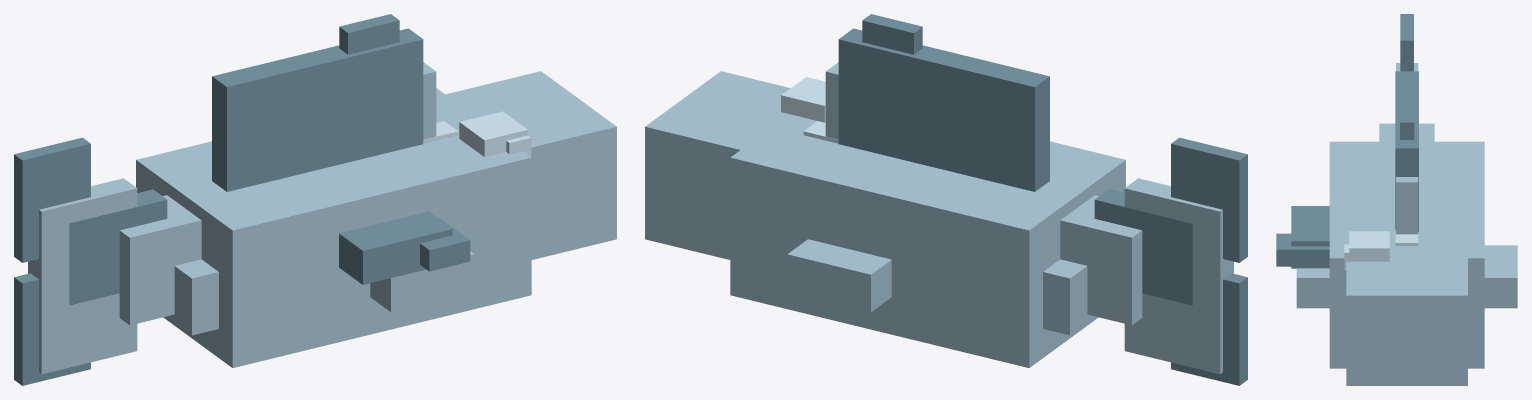
The model's file is fish_drift_icefish.glb.
3 renders of one model, left to right at view 1: azimuth 30°, elevation 25°; view 2: azimuth 150°, elevation 25°; view 3: azimuth 270°, elevation 25°, orthographic. The views are drawn at different scales.
Visible parts, largest first — view 1: FishArt_body, FishArt_dorsal, FishArt_tail, FishArt_pectoral, FishArt_eye; view 2: FishArt_body, FishArt_dorsal, FishArt_tail, FishArt_eye; view 3: FishArt_body, FishArt_pectoral, FishArt_dorsal, FishArt_eye, FishArt_tail, FishArt_specialty.
Boxes of the visible parts, bbox=[...] form: FishArt_body: bbox=[28, 62, 616, 374]; FishArt_dorsal: bbox=[212, 14, 423, 191]; FishArt_tail: bbox=[14, 137, 167, 385]; FishArt_pectoral: bbox=[339, 211, 470, 284]; FishArt_eye: bbox=[459, 111, 531, 156]; FishArt_body: bbox=[645, 62, 1233, 374]; FishArt_dorsal: bbox=[838, 14, 1049, 191]; FishArt_tail: bbox=[1094, 137, 1247, 385]; FishArt_eye: bbox=[781, 77, 825, 122]; FishArt_body: bbox=[1296, 63, 1517, 385]; FishArt_pectoral: bbox=[1276, 206, 1329, 268]; FishArt_dorsal: bbox=[1395, 71, 1418, 231]; FishArt_eye: bbox=[1344, 231, 1389, 270]; FishArt_tail: bbox=[1400, 14, 1413, 71]; FishArt_specialty: bbox=[1395, 229, 1418, 245].
Bounding box in the file's own units: 0.3091 × 0.1442 × 0.1439.
